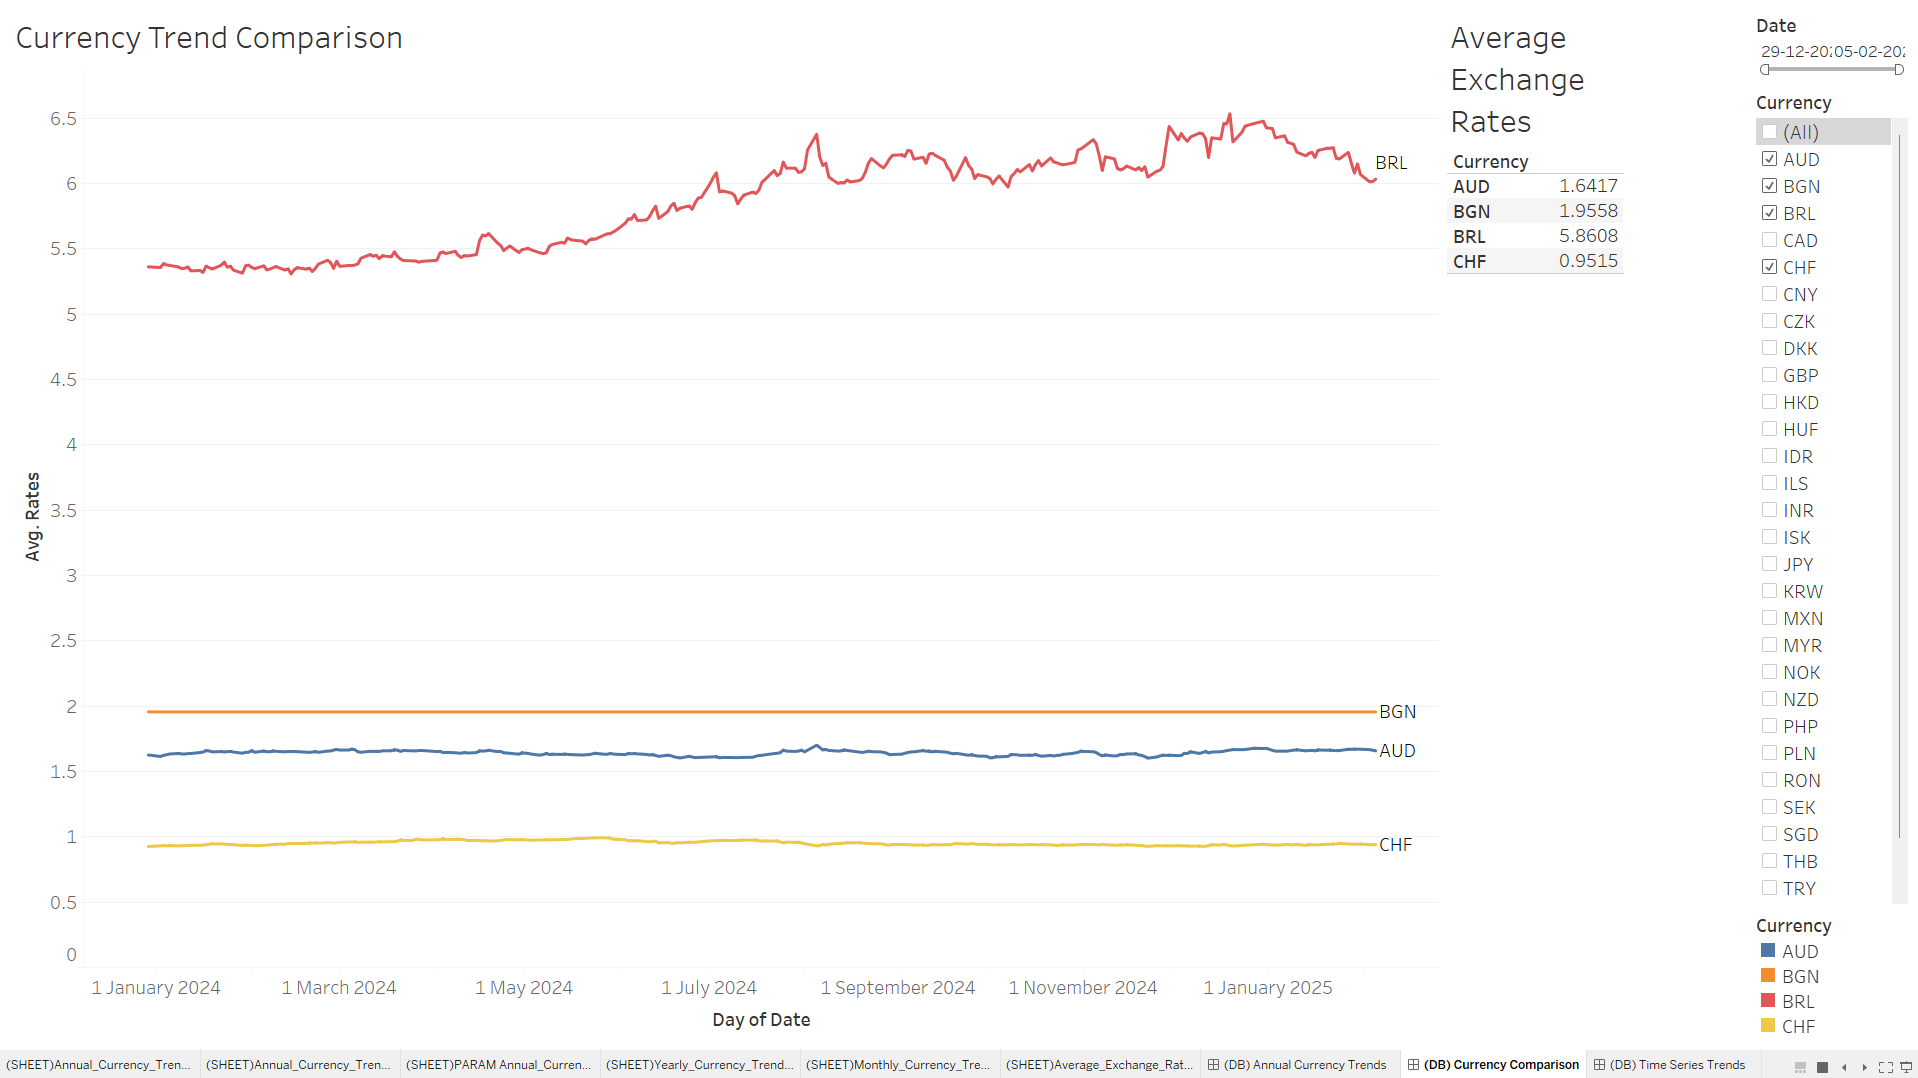

The page's visual inventory and layout, read from the dashboard file:
{"tool":"tableau","page":{"name":"(DB) Currency Comparison","canvas":[1000,1000],"units":"permille","ordinal":1},"visuals":[{"type":"worksheet","title":"(SHEET)Annual_Currency_Trends_Multiple","mark":"Line","rows":["Rates (copy)_1711086427370254337"],"cols":["DATE"],"box":[5,9.4,732.5,981.3]},{"type":"worksheet","title":"(SHEET)Average_Exchange_Rates","mark":"Automatic","rows":["currency"],"box":[737.5,9.4,157.7,981.3]},{"type":"filter","title":"(SHEET)Annual_Currency_Trends_Multiple","param":"[federated.1v11yo518a9j6g1fef7st0lkwzgw].[none:DATE:qk]","box":[895.3,9.4,99.8,90.1]},{"type":"filter","title":"(SHEET)Annual_Currency_Trends_Multiple","param":"[federated.1v11yo518a9j6g1fef7st0lkwzgw].[none:currency:nk]","box":[895.3,99.4,99.8,763.7]},{"type":"legend","title":"(SHEET)Annual_Currency_Trends_Multiple","param":"[federated.1v11yo518a9j6g1fef7st0lkwzgw].[none:currency:nk]","box":[895.3,863.1,99.8,127.5]}]}

Visuals, with their boxes on the dashboard's canvas, which has no fixed pixel size, in thousandths of its width and height (x1, y1, x2, y2). These are canvas units, not pixel positions in the 1918x1078 screenshot, which may show the page scaled, cropped or inside an application window:
"(SHEET)Annual_Currency_Trends_Multiple" worksheet (Line marks): 5,9,738,991
"(SHEET)Average_Exchange_Rates" worksheet: 738,9,895,991
"(SHEET)Annual_Currency_Trends_Multiple" filter: 895,9,995,100
"(SHEET)Annual_Currency_Trends_Multiple" filter: 895,99,995,863
"(SHEET)Annual_Currency_Trends_Multiple" legend: 895,863,995,991
